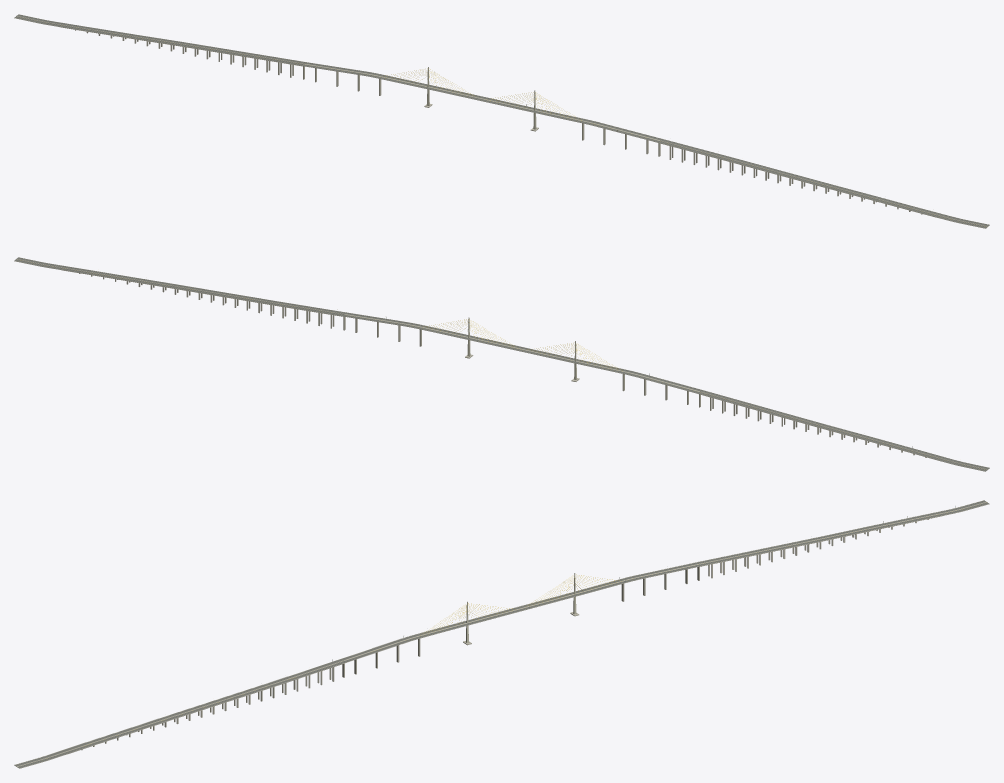
Rendered from sunshine-skyway-bridge-far.glb.
3 renders of one model, top to bottom at view 1: azimuth 30°, elevation 25°; view 2: azimuth 210°, elevation 25°; view 3: azimuth 270°, elevation 25°, orthographic. The views are drawn at different scales.
Parts seen in each view (by area): view 1: sunshine-skyway-bridge-0-asphalt, sunshine-skyway-bridge-0-concrete, sunshine-skyway-bridge-0-median; view 2: sunshine-skyway-bridge-0-asphalt, sunshine-skyway-bridge-0-concrete, sunshine-skyway-bridge-0-median; view 3: sunshine-skyway-bridge-0-asphalt, sunshine-skyway-bridge-0-concrete, sunshine-skyway-bridge-0-median.
Part boxes in pixels (x1,y1,x2,y2): sunshine-skyway-bridge-0-asphalt: (15, 14, 989, 228); sunshine-skyway-bridge-0-concrete: (14, 14, 989, 228); sunshine-skyway-bridge-0-median: (16, 15, 987, 226); sunshine-skyway-bridge-0-asphalt: (14, 257, 989, 471); sunshine-skyway-bridge-0-concrete: (14, 257, 989, 471); sunshine-skyway-bridge-0-median: (16, 259, 987, 469); sunshine-skyway-bridge-0-asphalt: (14, 500, 988, 768); sunshine-skyway-bridge-0-concrete: (14, 500, 989, 768); sunshine-skyway-bridge-0-median: (16, 501, 987, 767).
Bounding box in the file's own units: 1827 × 131 × 2809.
